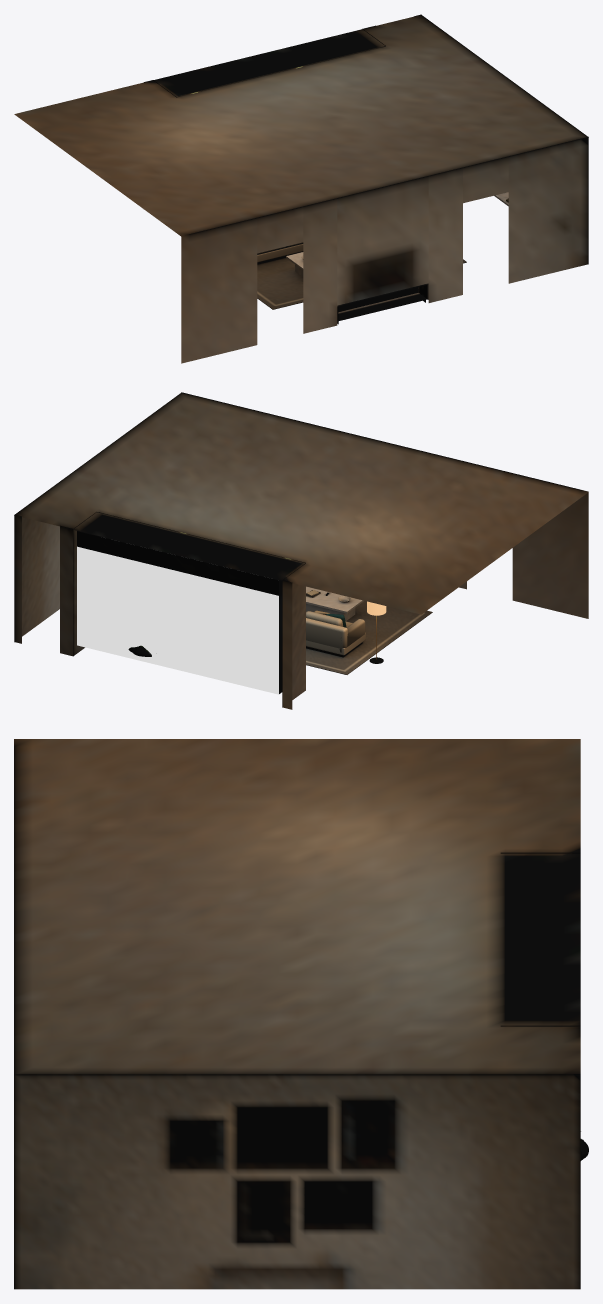
File: living.glb
The picture shows the model from 3 angles, top to bottom: view 1: azimuth 30°, elevation 25°; view 2: azimuth 150°, elevation 25°; view 3: azimuth 270°, elevation 25°; orthographic projection. The views are drawn at different scales.
Parts seen in each view (by area): view 1: living__upper__vtx, living__ground__vtx; view 2: living__upper__vtx, living__ground__vtx, living__ground__raw; view 3: living__upper__vtx, living__ground__vtx.
Boxes of the visible parts, <box> form: living__upper__vtx: <box>14,15,588,236</box>; living__ground__vtx: <box>144,14,588,363</box>; living__upper__vtx: <box>15,393,588,614</box>; living__ground__vtx: <box>14,392,588,709</box>; living__ground__raw: <box>77,546,386,694</box>; living__upper__vtx: <box>14,739,580,1075</box>; living__ground__vtx: <box>14,852,588,1289</box>.
Size of the model in its own units: 10.7 by 3.2 by 7.74.
